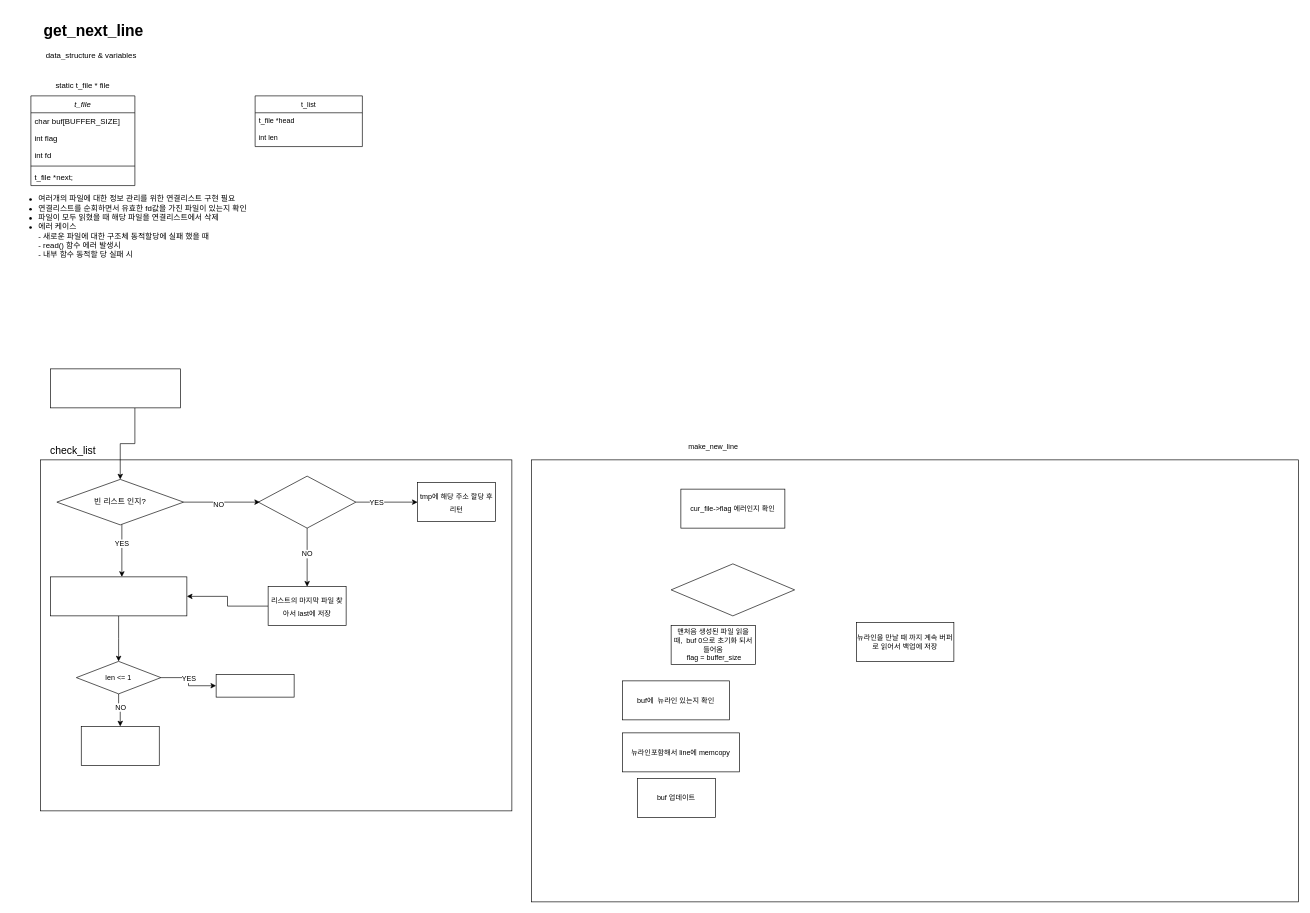
Some shapes in this 1310 by 913 pixel diagram are drawn without their labels. The centre of each missing label's shape, as x and y in pixels:
"buffersize에 딱맞게 들어왔으면" belongs at pixel 732 589.
"fd 값이 유효한지 확인" belongs at pixel 115 388.
"head에 tmp 할당" belongs at pixel 254 685.
"last->next = tmp" belongs at pixel 120 745.
"tmp에 동적 할당 후 초기화 len++" belongs at pixel 118 596.
"기존에 열린 파일인지?" belongs at pixel 307 501.
